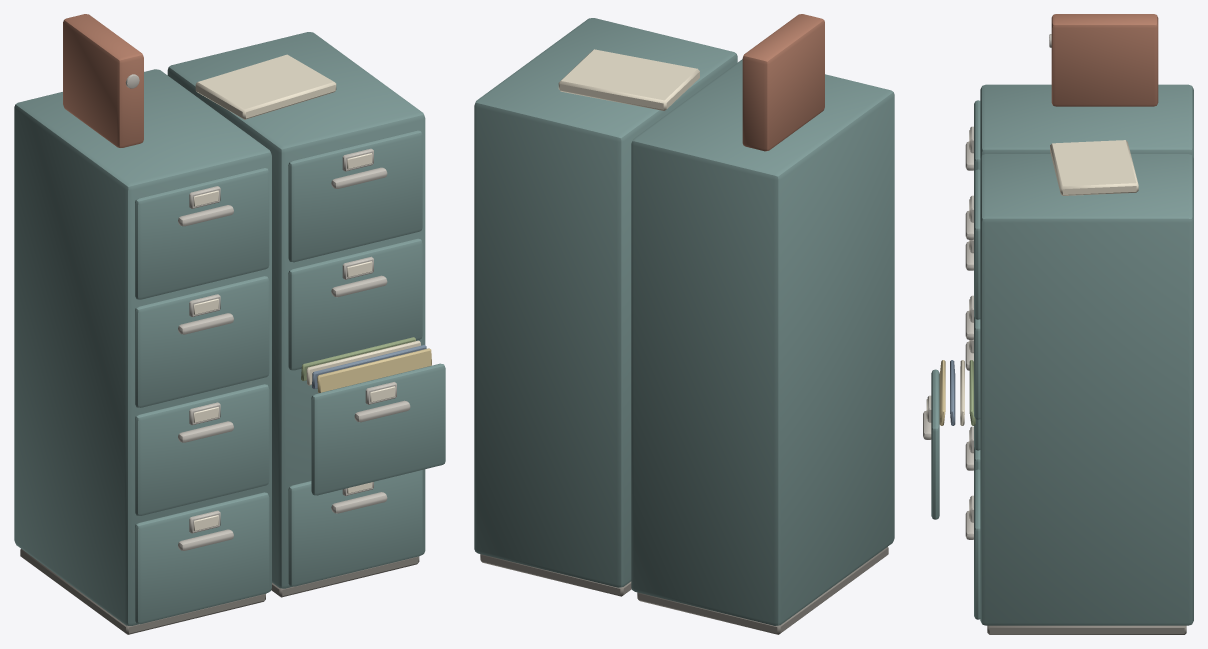
File: filing_cabinet.glb
3 renders of one model, left to right at view 1: azimuth 30°, elevation 25°; view 2: azimuth 150°, elevation 25°; view 3: azimuth 270°, elevation 25°, orthographic. The views are drawn at different scales.
Visible parts, largest first — view 1: paint, book_b, steel, cream, steel_dark, paper, book_d, book_a, book_c; view 2: paint, book_b, cream, steel_dark; view 3: paint, book_b, cream, steel, steel_dark, book_d.
Boxes of the visible parts, x1,y1,x2,y2 form: paint: (14, 32, 445, 625); book_b: (63, 14, 143, 147); steel: (125, 74, 410, 550); cream: (195, 54, 420, 385); steel_dark: (20, 549, 419, 634); paper: (193, 153, 395, 531); book_d: (317, 348, 431, 392); book_a: (312, 345, 426, 389); book_c: (301, 337, 415, 380); paint: (474, 18, 894, 625); book_b: (742, 14, 824, 151); cream: (558, 49, 699, 110); steel_dark: (480, 547, 888, 634); paint: (931, 84, 1193, 625); book_b: (1051, 14, 1158, 106); cream: (960, 140, 1138, 425); steel: (923, 34, 1051, 539); steel_dark: (987, 625, 1186, 634); book_d: (939, 360, 945, 425).
Bounding box in the file's own units: 0.9 × 1.56 × 0.761.
